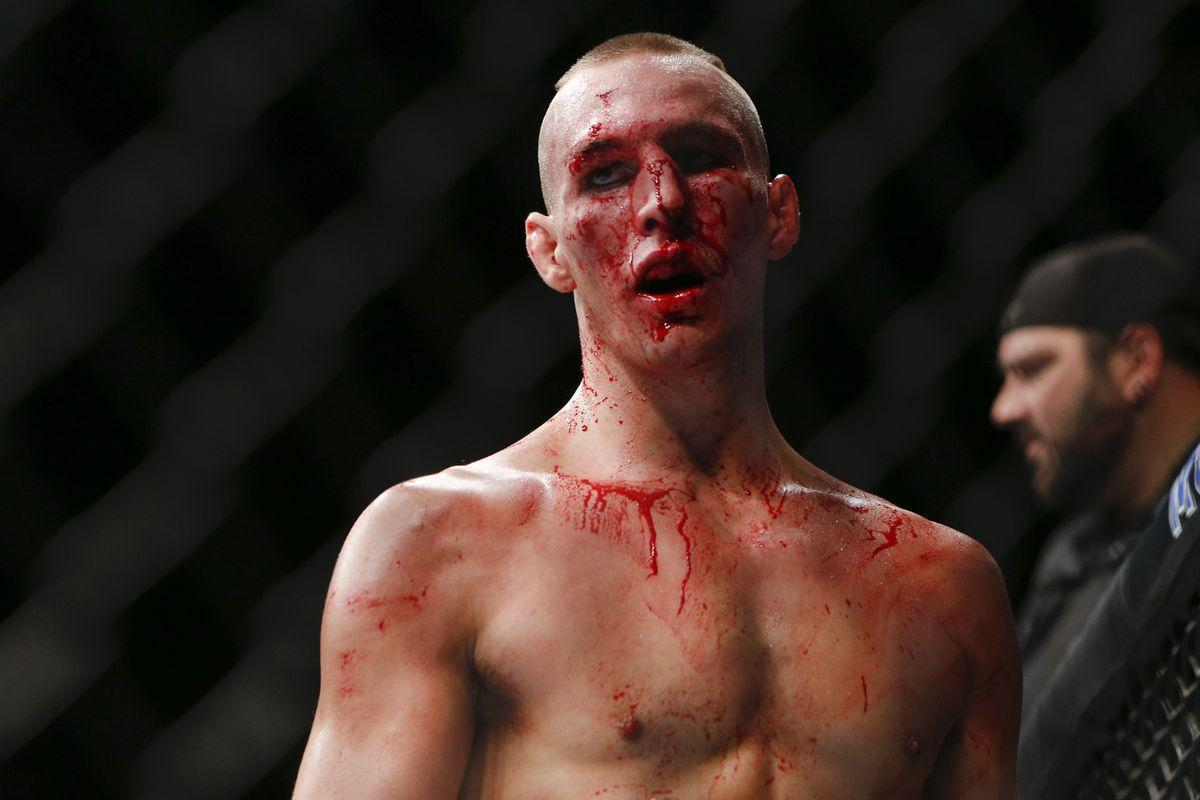Fire: (510, 317, 1022, 800), (546, 73, 806, 377), (322, 491, 492, 710)
